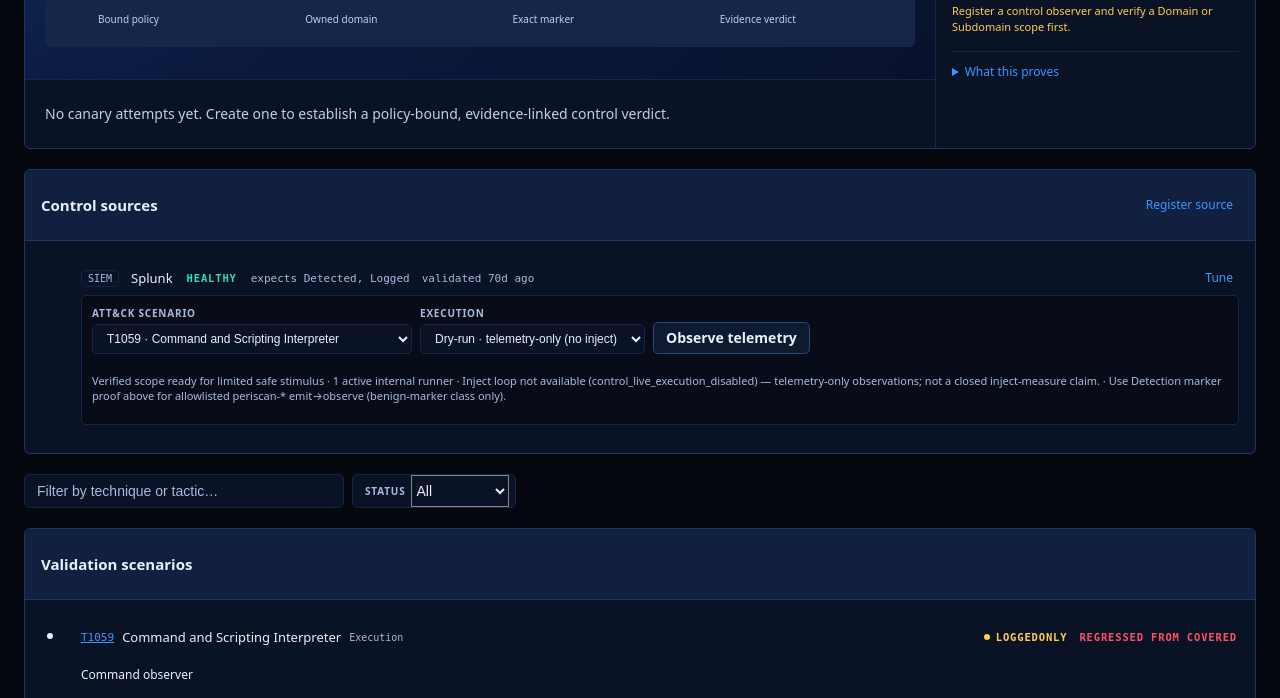
ControlsWorkbench › runs a named dry-run scenario and exposes snapshot regressions honestly
(page scrolled)
Expected: the text "Verified scope ready for limited safe stimulus" is shown, top-left (92, 373), bottom-right (324, 388)
Expected: the text "Inject loop not available (control_live_execution_disabled)" is shown, top-left (454, 373), bottom-right (1100, 388)
Click the button "Observe telemetry": coordinates (731, 338) top-left (653, 322), bottom-right (810, 354)
(page scrolled)
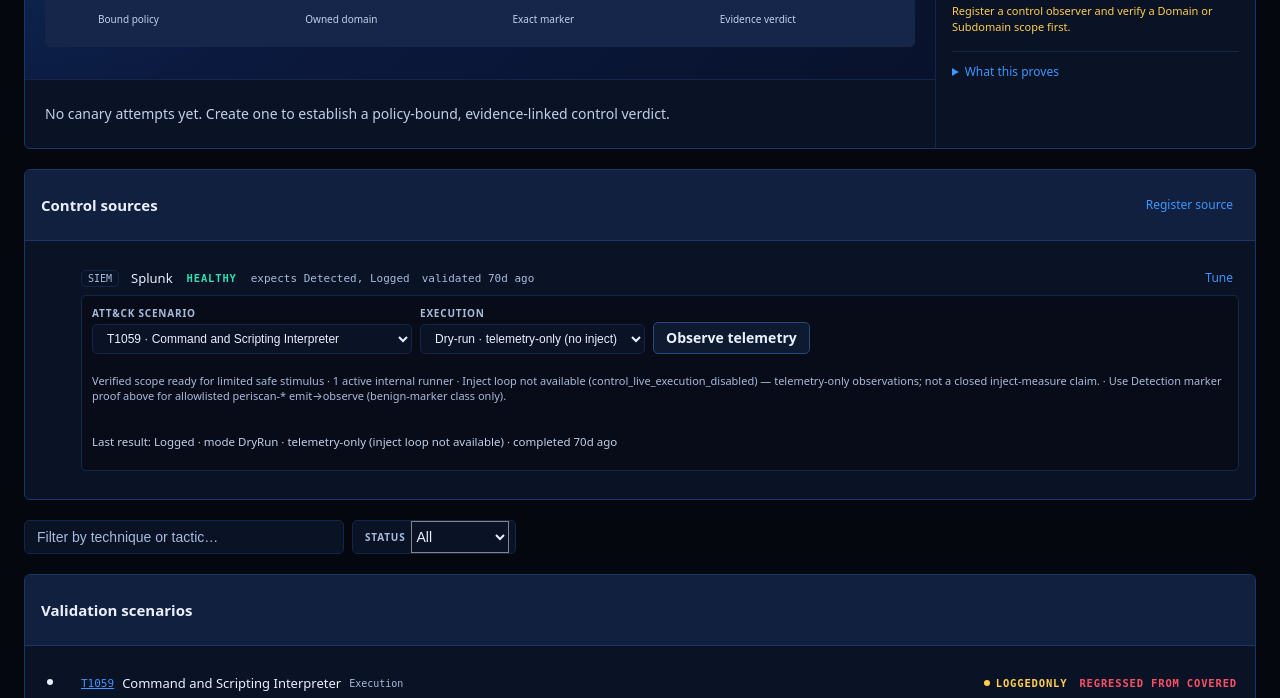
Expected: the text "Last result: Logged · mode DryRun · telemetry-only (inject loop not available)" is shown, top-left (92, 434), bottom-right (617, 448)
